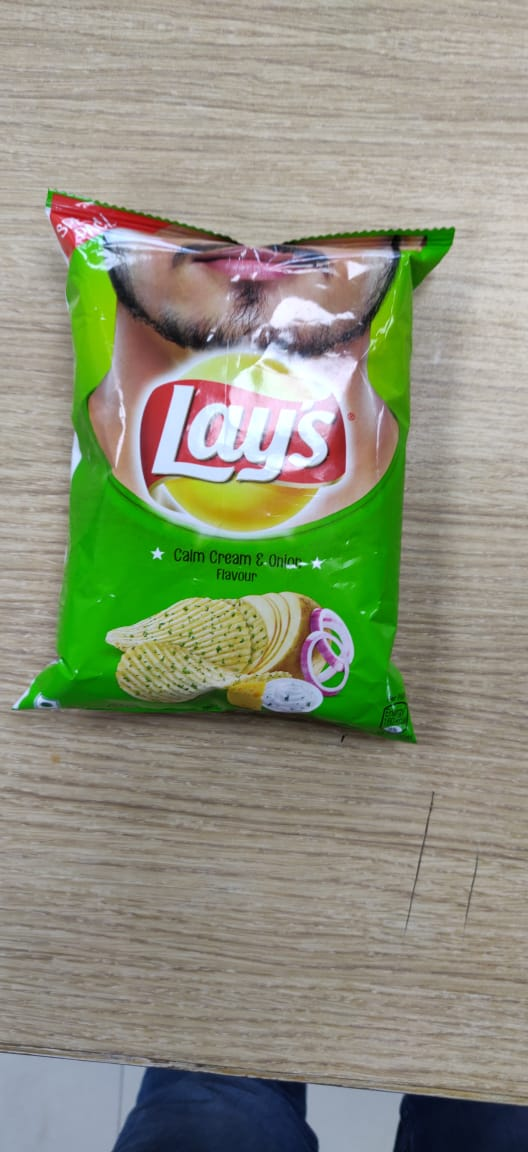lays chips: (31, 153, 461, 776)
